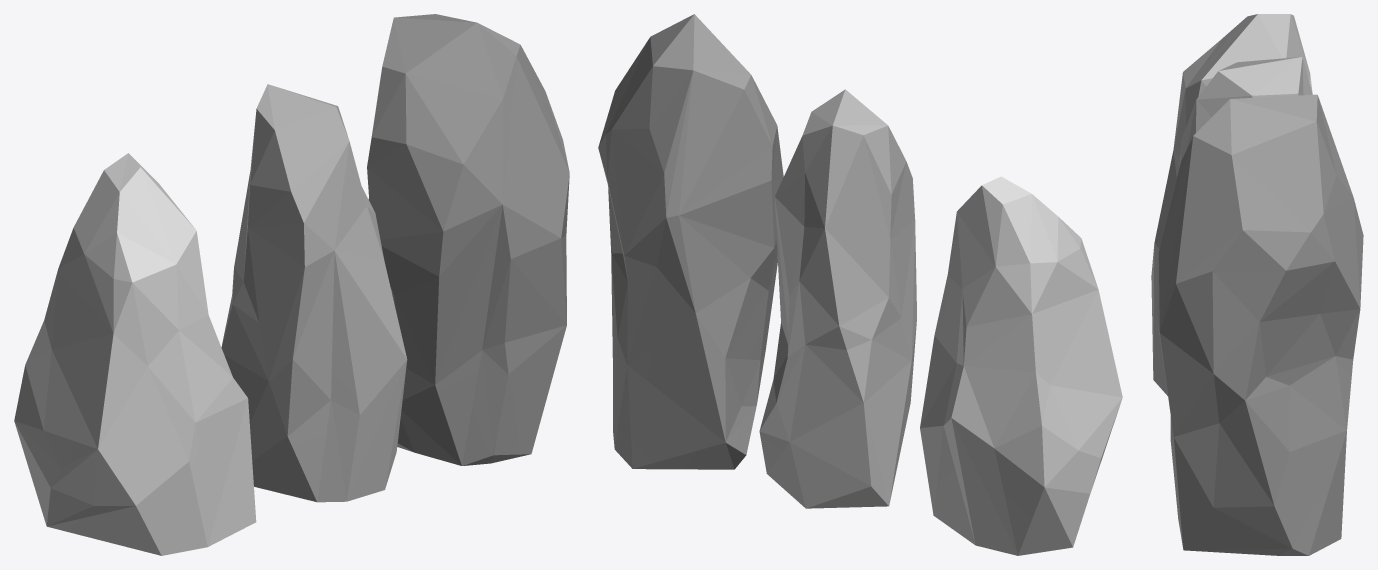
Rendered from FBX_Rock_B.fbx.
The picture shows the model from 3 angles, left to right: view 1: azimuth 30°, elevation 25°; view 2: azimuth 150°, elevation 25°; view 3: azimuth 270°, elevation 25°; orthographic projection. The views are drawn at different scales.
Visible parts, largest first — view 1: Rock_B_1, Rock_B_3, Rock_B_2; view 2: Rock_B_1, Rock_B_3, Rock_B_2; view 3: Rock_B_1, Rock_B_3, Rock_B_2.
Boxes of the visible parts, bbox=[...] form: Rock_B_1: bbox=[367, 14, 569, 465]; Rock_B_3: bbox=[14, 153, 256, 555]; Rock_B_2: bbox=[221, 84, 407, 502]; Rock_B_1: bbox=[598, 14, 783, 469]; Rock_B_3: bbox=[920, 176, 1122, 555]; Rock_B_2: bbox=[759, 89, 916, 508]; Rock_B_1: bbox=[1156, 94, 1363, 555]; Rock_B_3: bbox=[1151, 14, 1312, 395]; Rock_B_2: bbox=[1179, 57, 1312, 167].
Size of the model in its own units: 560 by 202 by 457.
